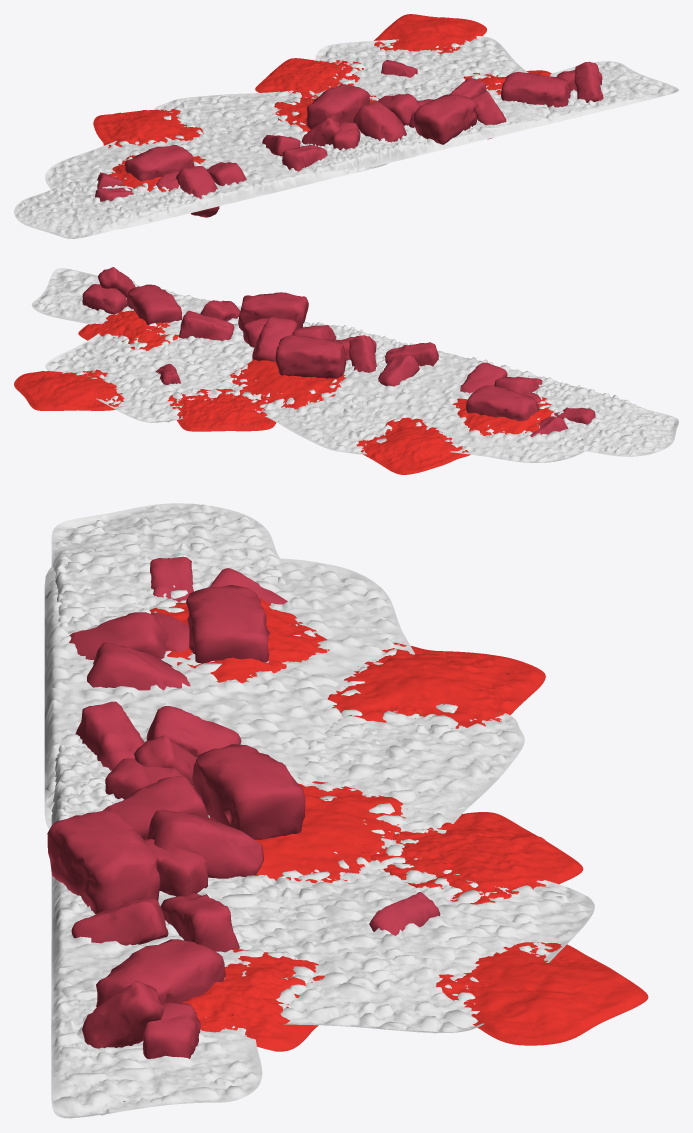
Rendered from DirtGround_Mesh.fbx.
3 renders of one model, top to bottom at view 1: azimuth 30°, elevation 25°; view 2: azimuth 150°, elevation 25°; view 3: azimuth 270°, elevation 25°, orthographic. The views are drawn at different scales.
Parts seen in each view (by area): view 1: DirtGround_Mesh_LOD0; view 2: DirtGround_Mesh_LOD0; view 3: DirtGround_Mesh_LOD0.
Boxes of the visible parts, left/top/right/bottom form: DirtGround_Mesh_LOD0: left=14, top=14, right=678, bottom=238; DirtGround_Mesh_LOD0: left=14, top=267, right=678, bottom=474; DirtGround_Mesh_LOD0: left=44, top=503, right=648, bottom=1118.
Size of what is drawn, in the model's own units: 679 by 57.09 by 282.
